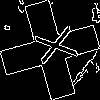X: (25, 25, 78, 69)
